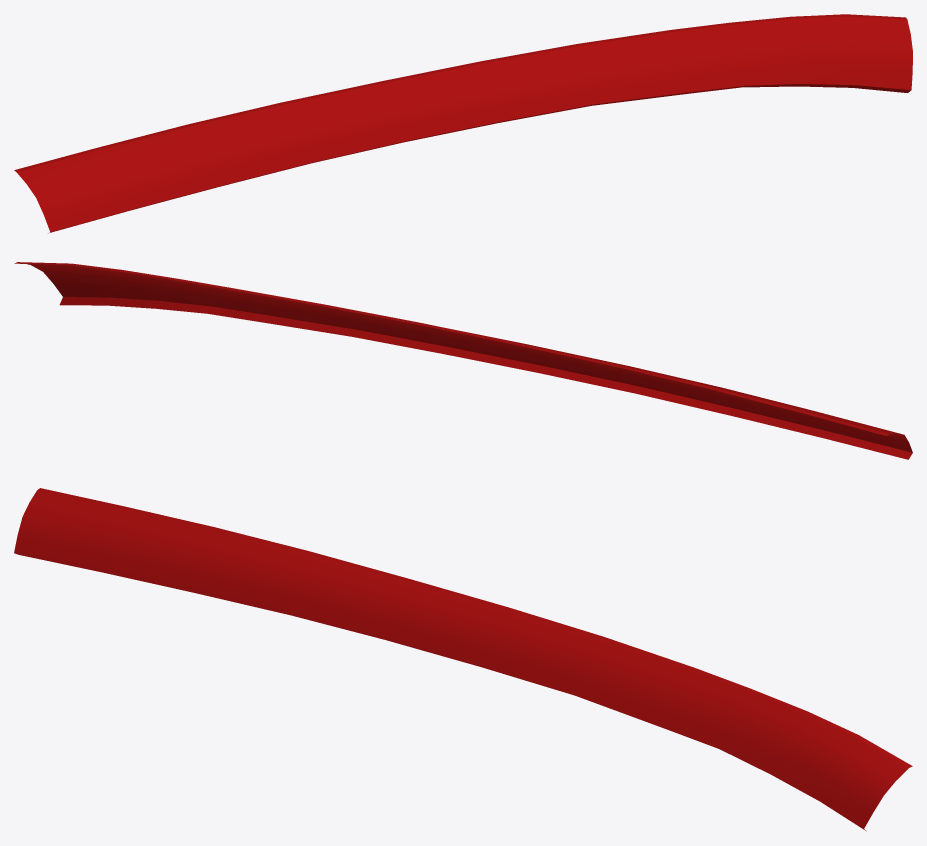
3 renders of one model, top to bottom at view 1: azimuth 30°, elevation 25°; view 2: azimuth 150°, elevation 25°; view 3: azimuth 330°, elevation 25°, orthographic.
Visible parts, largest first — view 1: Y175_18_18A5_R_1_DaS_Y175_18_18A5_R, Y175_18_18A5_R_1_DaS_Y175_18_18A5_R_E; view 2: Y175_18_18A5_R_1_DaS_Y175_18_18A5_R, Y175_18_18A5_R_1_DaS_Y175_18_18A5_R_E; view 3: Y175_18_18A5_R_1_DaS_Y175_18_18A5_R, Y175_18_18A5_R_1_DaS_Y175_18_18A5_R_E.
Part boxes in pixels (x1,y1,x2,y2): Y175_18_18A5_R_1_DaS_Y175_18_18A5_R: (17, 16, 912, 232); Y175_18_18A5_R_1_DaS_Y175_18_18A5_R_E: (14, 14, 911, 233); Y175_18_18A5_R_1_DaS_Y175_18_18A5_R: (27, 264, 912, 452); Y175_18_18A5_R_1_DaS_Y175_18_18A5_R_E: (14, 262, 912, 459); Y175_18_18A5_R_1_DaS_Y175_18_18A5_R: (14, 490, 908, 828); Y175_18_18A5_R_1_DaS_Y175_18_18A5_R_E: (15, 488, 912, 831).
Bounding box in the file's own units: 74.45 × 8.85 × 5.84.
